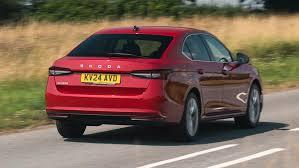skoda: (78, 58, 121, 69)
